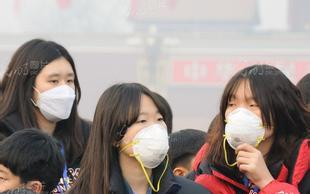OK: (121, 108, 169, 165), (32, 72, 80, 123), (226, 95, 273, 145)
